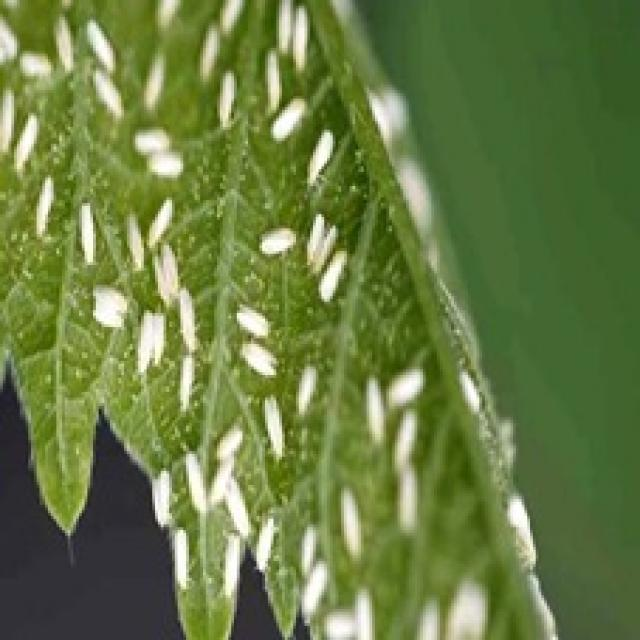Septoria_Leaf_Spot: (2, 30, 574, 622), (81, 254, 226, 407)
